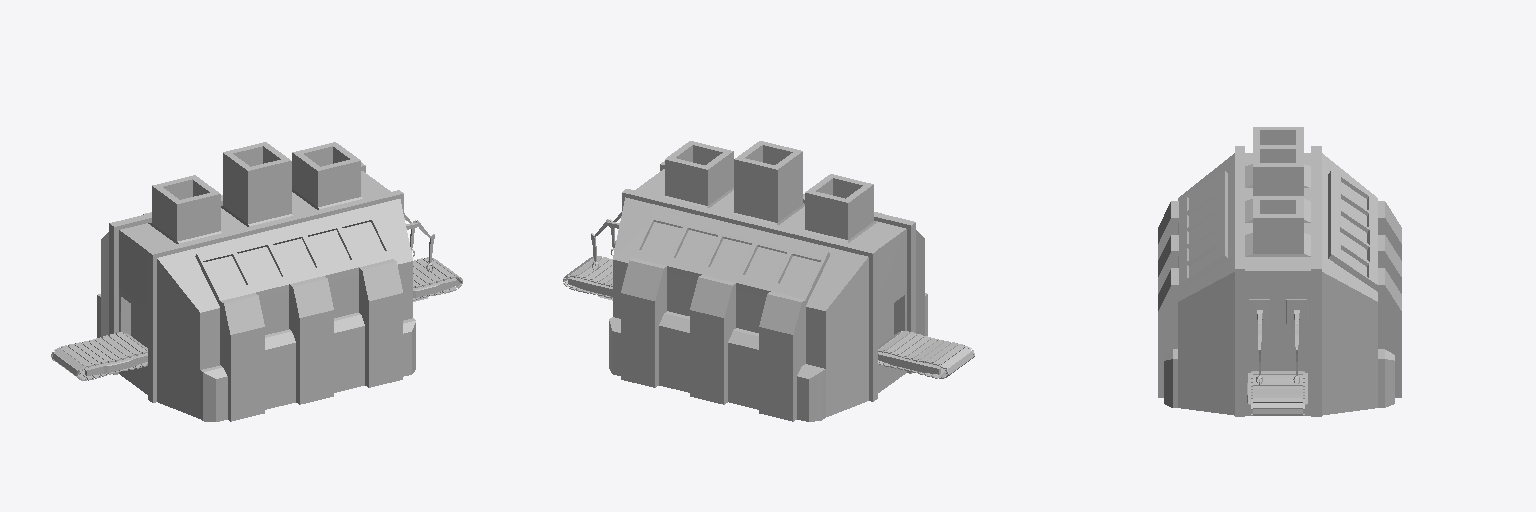
Rendered from siderurgy.obj.
3 renders of one model, left to right at view 1: azimuth 30°, elevation 25°; view 2: azimuth 150°, elevation 25°; view 3: azimuth 270°, elevation 25°, orthographic.
Visible parts, largest first — view 1: siderurgy_Cube.009; view 2: siderurgy_Cube.009; view 3: siderurgy_Cube.009.
Part boxes in pixels (x1,y1,x2,y2): siderurgy_Cube.009: (51,142,462,421); siderurgy_Cube.009: (563,141,974,421); siderurgy_Cube.009: (1158,127,1401,416).
Size of the model in its own units: 392 by 195 by 215.